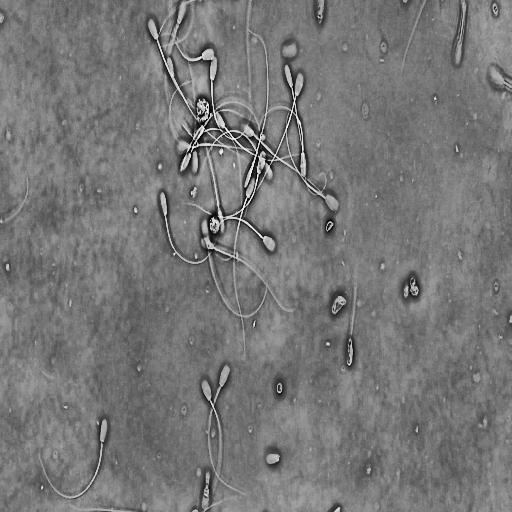coiled-tail: (291, 87, 327, 195), (349, 289, 356, 341), (333, 296, 346, 311), (347, 342, 352, 367), (205, 473, 210, 496), (349, 346, 350, 354)
dirt-particles: (399, 273, 421, 302), (194, 94, 212, 124), (209, 214, 221, 236), (274, 377, 285, 399), (324, 218, 337, 236)
loose-head: (279, 37, 301, 62), (262, 447, 284, 468)
normal: (200, 237, 299, 316), (200, 216, 270, 322), (253, 70, 306, 195), (284, 101, 341, 215), (37, 415, 109, 502), (206, 358, 249, 501), (284, 62, 328, 198), (211, 107, 305, 164), (145, 13, 196, 112), (157, 188, 220, 267), (232, 174, 257, 362), (197, 127, 274, 187), (209, 52, 253, 142), (258, 104, 308, 180), (197, 374, 226, 504), (168, 1, 217, 64), (212, 215, 278, 257), (345, 280, 359, 371), (329, 290, 349, 321), (200, 468, 212, 512)
